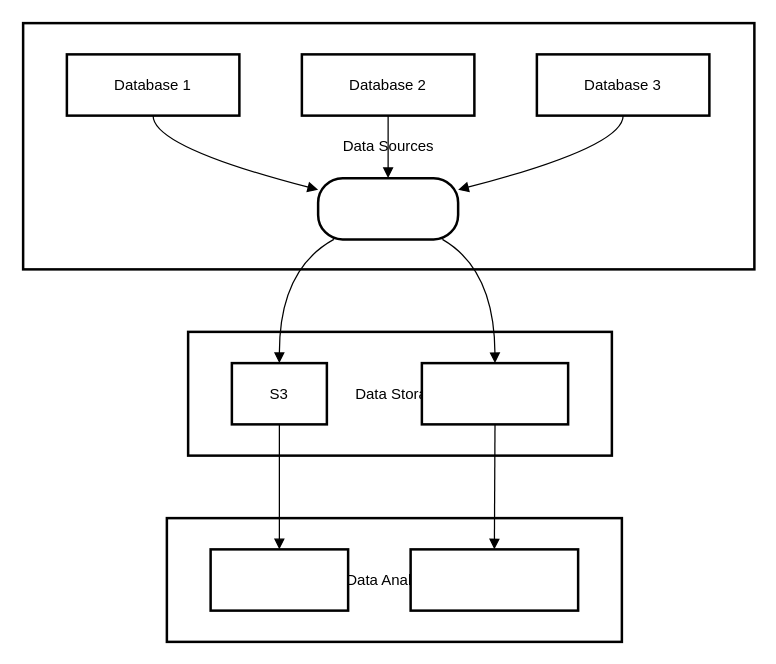
The diagram is 776 pixels wide and 664 high, and some of its shapes have lost their labels. The centre of each missing label's shape, as x and y in pixels:
Athena: the point at 279,579
ETL Process: the point at 387,208
QuickSight: the point at 494,579
Redshift: the point at 494,393
